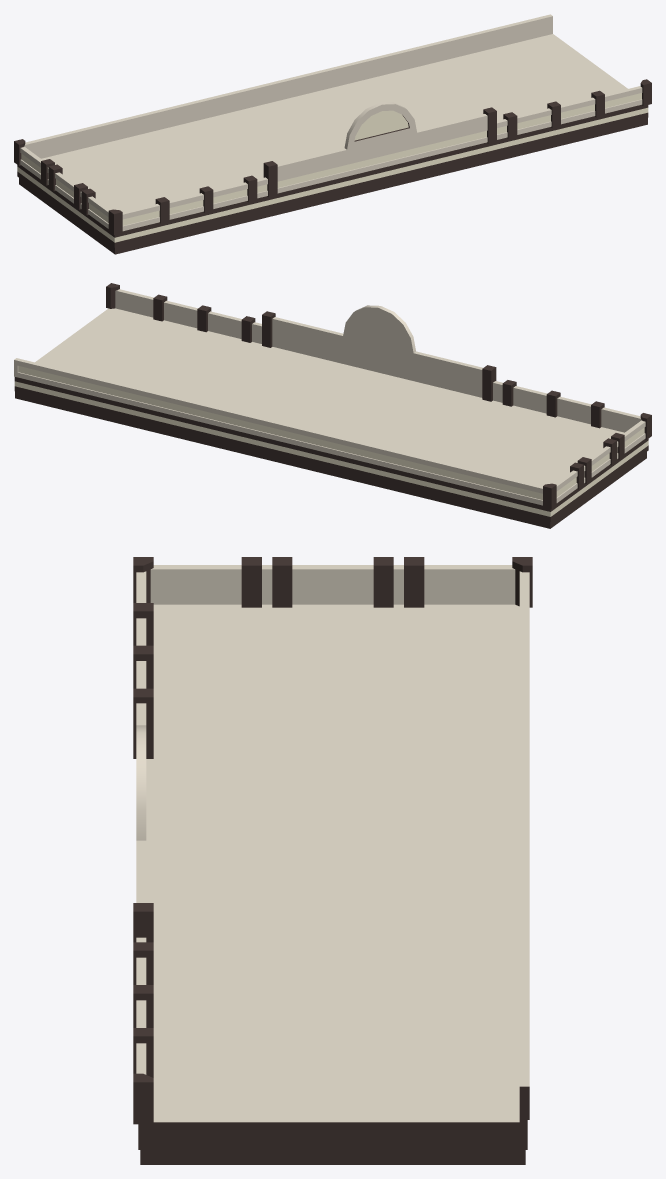
File: BuildingSmall2_3.fbx
3 views of the same model, one above another, from view 1: azimuth 30°, elevation 25°; view 2: azimuth 150°, elevation 25°; view 3: azimuth 270°, elevation 25° (orthographic). The views are drawn at different scales.
Parts seen in each view (by area): view 1: BuildingSmall2_3; view 2: BuildingSmall2_3; view 3: BuildingSmall2_3.
Boxes of the visible parts, x1,y1,x2,y2 form: BuildingSmall2_3: (14, 14, 651, 254); BuildingSmall2_3: (14, 283, 651, 528); BuildingSmall2_3: (133, 557, 532, 1164).
Bounding box in the file's own units: 6130 × 935 × 1970.
